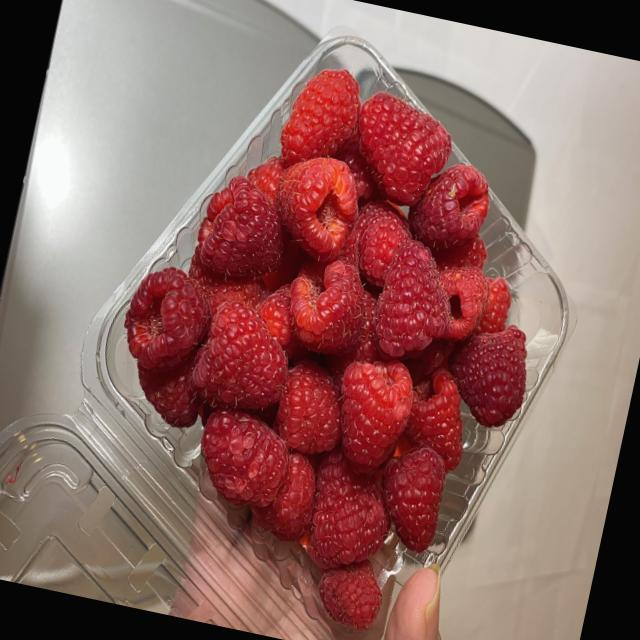raspberries: (128, 52, 546, 599)
